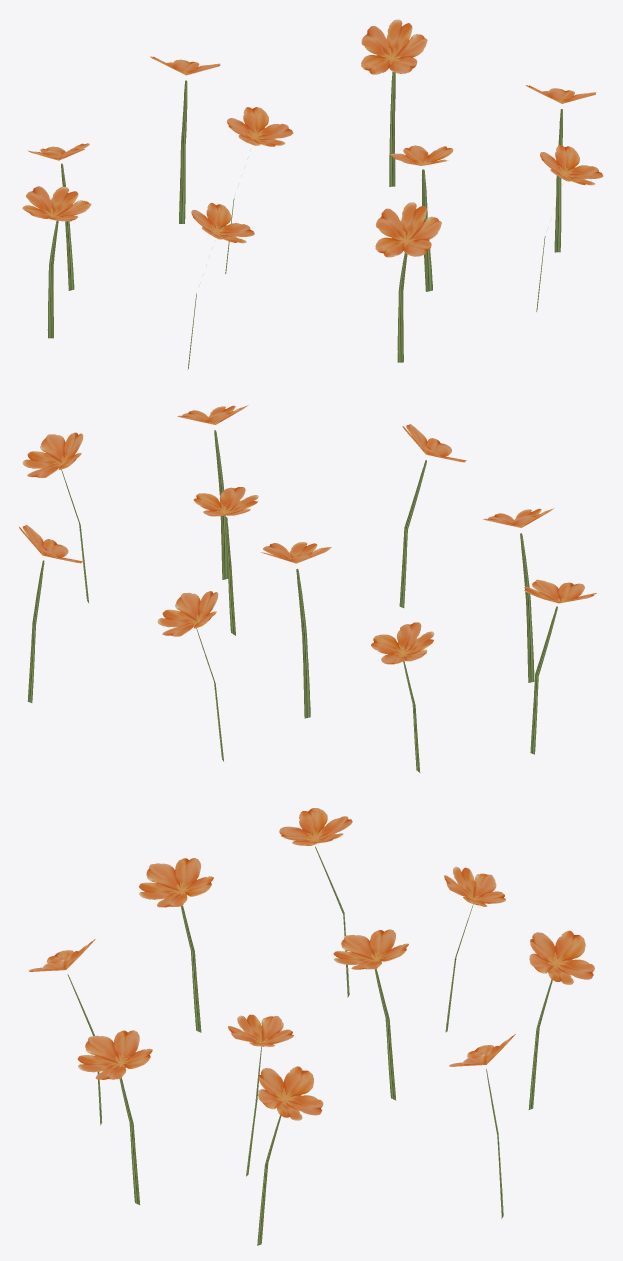
The model's file is SM_Castle_Flower_Orange_Group.fbx.
3 renders of one model, top to bottom at view 1: azimuth 30°, elevation 25°; view 2: azimuth 150°, elevation 25°; view 3: azimuth 270°, elevation 25°, orthographic. The views are drawn at different scales.
Parts seen in each view (by area): view 1: SM_Castle_Flower_Orange_Group; view 2: SM_Castle_Flower_Orange_Group; view 3: SM_Castle_Flower_Orange_Group.
Part boxes in pixels (bbox=[...]): SM_Castle_Flower_Orange_Group: bbox=[22, 19, 603, 369]; SM_Castle_Flower_Orange_Group: bbox=[19, 405, 596, 772]; SM_Castle_Flower_Orange_Group: bbox=[29, 808, 594, 1245].
Bounding box in the file's own units: 97.05 × 80.19 × 28.34.
1 material, 1 textured.
